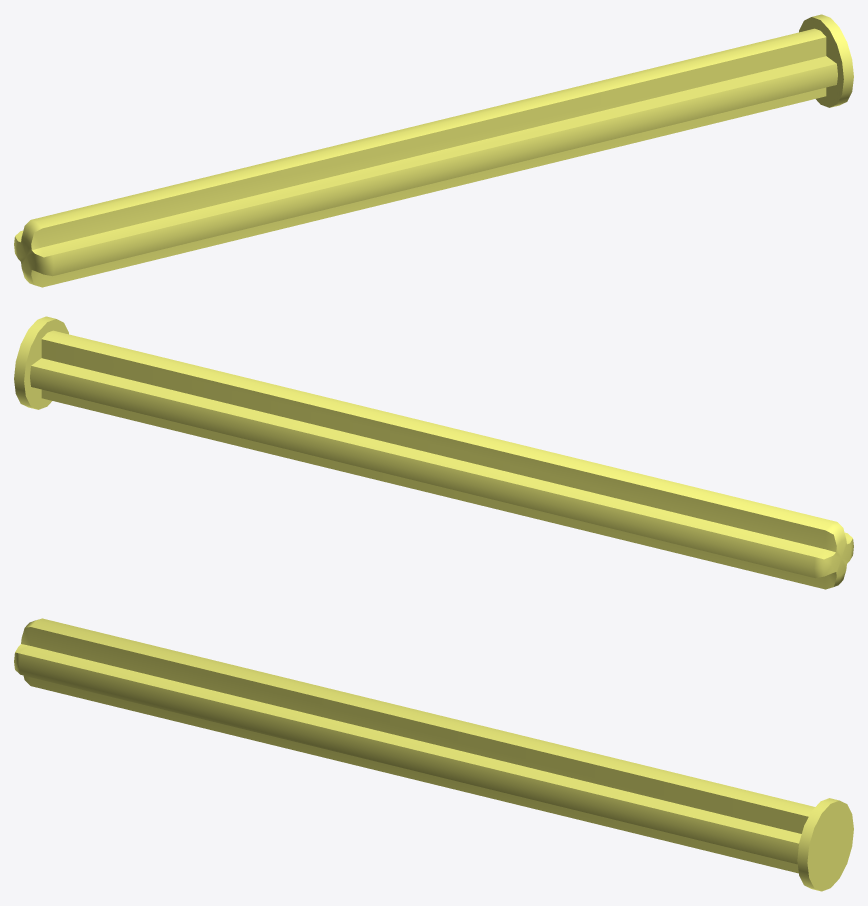
3 renders of one model, top to bottom at view 1: azimuth 30°, elevation 25°; view 2: azimuth 150°, elevation 25°; view 3: azimuth 330°, elevation 25°, orthographic.
Parts seen in each view (by area): view 1: 55013.dat; view 2: 55013.dat; view 3: 55013.dat.
Boxes of the visible parts, <box> form: 55013.dat: <box>14,14,853,287</box>; 55013.dat: <box>14,316,853,589</box>; 55013.dat: <box>14,618,853,891</box>.
Size of the model in its own units: 0.0638 by 0.0064 by 0.0064.
